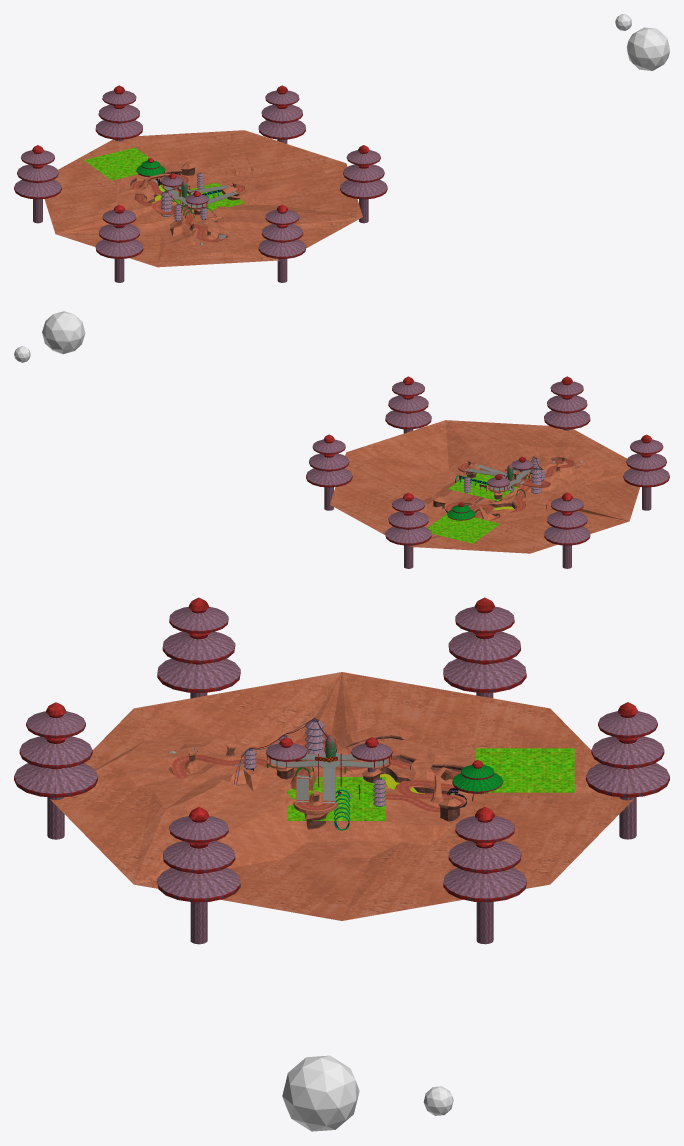
Rendered from track.glb.
The picture shows the model from 3 angles, top to bottom: view 1: azimuth 30°, elevation 25°; view 2: azimuth 150°, elevation 25°; view 3: azimuth 270°, elevation 25°; orthographic projection. The views are drawn at different scales.
Parts seen in each view (by area): view 1: mesh_15, mesh_4, mesh_7, mesh_27, mesh_10, mesh_20, mesh_19; view 2: mesh_15, mesh_4, mesh_7, mesh_27, mesh_10, mesh_20, mesh_19; view 3: mesh_15, mesh_4, mesh_7, mesh_27, mesh_10, mesh_20, mesh_19, mesh_5.
Part boxes in pixels (left/top/right/bottom): mesh_15: left=44, top=130, right=362, bottom=267; mesh_4: left=14, top=90, right=387, bottom=282; mesh_7: left=14, top=85, right=387, bottom=258; mesh_27: left=84, top=147, right=244, bottom=210; mesh_10: left=627, top=27, right=669, bottom=70; mesh_20: left=131, top=174, right=244, bottom=241; mesh_19: left=164, top=185, right=238, bottom=240; mesh_15: left=330, top=420, right=640, bottom=553; mesh_4: left=306, top=381, right=669, bottom=568; mesh_7: left=306, top=376, right=669, bottom=545; mesh_27: left=428, top=473, right=516, bottom=543; mesh_10: left=42, top=311, right=85, bottom=354; mesh_20: left=445, top=459, right=574, bottom=520; mesh_19: left=464, top=464, right=578, bottom=490; mesh_15: left=50, top=672, right=633, bottom=920; mesh_4: left=14, top=606, right=669, bottom=944; mesh_7: left=14, top=597, right=669, bottom=902; mesh_27: left=287, top=748, right=574, bottom=820; mesh_10: left=282, top=1055, right=359, bottom=1131; mesh_20: left=171, top=733, right=465, bottom=812; mesh_19: left=191, top=750, right=388, bottom=804; mesh_5: left=168, top=735, right=474, bottom=829.
Bounding box in the file's own units: 1191 × 167 × 636.
21 materials, 21 textured.
